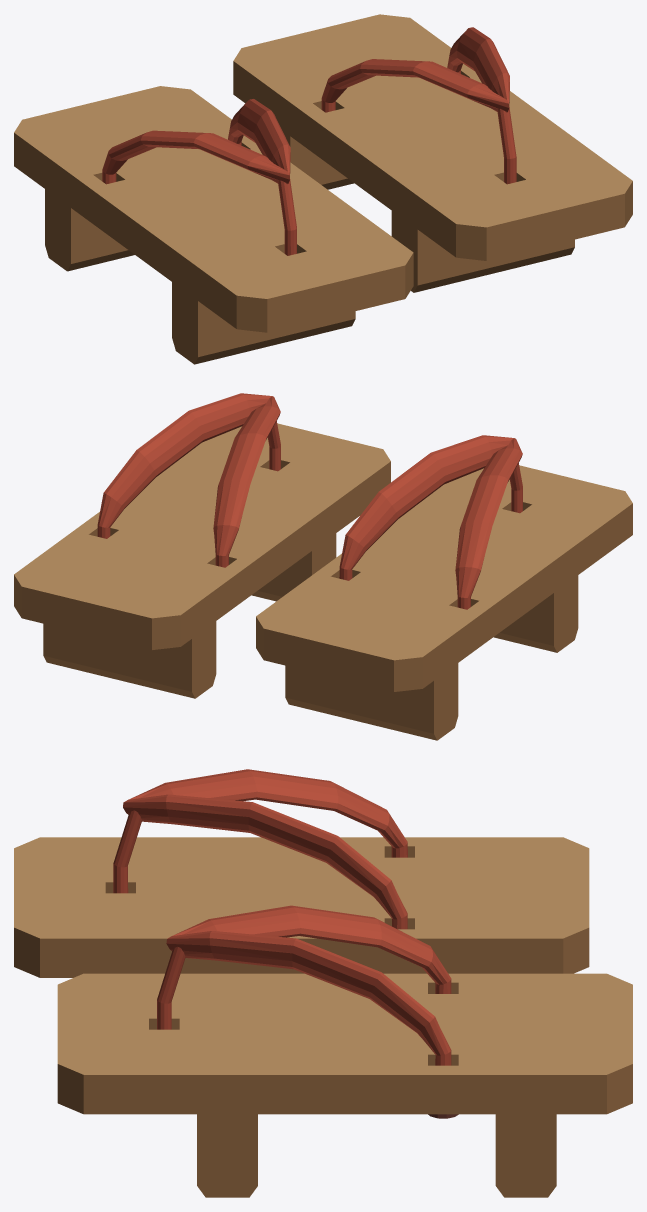
3 views of the same model, one above another, from view 1: azimuth 30°, elevation 25°; view 2: azimuth 150°, elevation 25°; view 3: azimuth 270°, elevation 25° (orthographic). The views are drawn at different scales.
Parts seen in each view (by area): view 1: Left_WholeThreeThroughHoleSoleBoard, Right_WholeThreeThroughHoleSoleBoard, Left_WholePaddedVThongAndTwoFlaredRoots, Right_WholePaddedVThongAndTwoFlaredRoots, Left_WholeFrontTransverseTooth, Right_WholeFrontTransverseTooth, Left_WholeRearTransverseTooth, Right_WholeRearTransverseTooth, Left_WholeForwardToePostAndFlaredRoot, Right_WholeForwardToePostAndFlaredRoot; view 2: Left_WholeThreeThroughHoleSoleBoard, Right_WholeThreeThroughHoleSoleBoard, Left_WholePaddedVThongAndTwoFlaredRoots, Right_WholePaddedVThongAndTwoFlaredRoots, Left_WholeRearTransverseTooth, Right_WholeRearTransverseTooth, Left_WholeFrontTransverseTooth, Right_WholeFrontTransverseTooth, Left_WholeForwardToePostAndFlaredRoot, Right_WholeForwardToePostAndFlaredRoot; view 3: Right_WholeThreeThroughHoleSoleBoard, Left_WholeThreeThroughHoleSoleBoard, Right_WholePaddedVThongAndTwoFlaredRoots, Left_WholePaddedVThongAndTwoFlaredRoots, Right_WholeRearTransverseTooth, Right_WholeFrontTransverseTooth, Left_WholeForwardToePostAndFlaredRoot, Right_WholeForwardToePostAndFlaredRoot.
Part boxes in pixels (<box>): Left_WholeThreeThroughHoleSoleBoard: <box>14,86,413,332</box>; Right_WholeThreeThroughHoleSoleBoard: <box>233,14,632,260</box>; Left_WholePaddedVThongAndTwoFlaredRoots: <box>102,99,290,184</box>; Right_WholePaddedVThongAndTwoFlaredRoots: <box>321,27,509,112</box>; Left_WholeFrontTransverseTooth: <box>172,282,355,364</box>; Right_WholeFrontTransverseTooth: <box>391,211,574,292</box>; Left_WholeRearTransverseTooth: <box>45,189,134,271</box>; Right_WholeRearTransverseTooth: <box>282,130,353,189</box>; Left_WholeForwardToePostAndFlaredRoot: <box>278,179,296,255</box>; Right_WholeForwardToePostAndFlaredRoot: <box>497,107,516,184</box>; Left_WholeThreeThroughHoleSoleBoard: <box>256,465,632,691</box>; Right_WholeThreeThroughHoleSoleBoard: <box>14,423,390,649</box>; Left_WholePaddedVThongAndTwoFlaredRoots: <box>339,435,522,609</box>; Right_WholePaddedVThongAndTwoFlaredRoots: <box>97,393,280,567</box>; Left_WholeRearTransverseTooth: <box>285,663,458,740</box>; Right_WholeRearTransverseTooth: <box>43,621,216,698</box>; Left_WholeFrontTransverseTooth: <box>493,575,578,652</box>; Right_WholeFrontTransverseTooth: <box>251,533,336,601</box>; Left_WholeForwardToePostAndFlaredRoot: <box>509,463,522,513</box>; Right_WholeForwardToePostAndFlaredRoot: <box>267,421,280,471</box>; Right_WholeThreeThroughHoleSoleBoard: <box>57,973,632,1114</box>; Left_WholeThreeThroughHoleSoleBoard: <box>14,837,589,977</box>; Right_WholePaddedVThongAndTwoFlaredRoots: <box>166,905,458,1118</box>; Left_WholePaddedVThongAndTwoFlaredRoots: <box>123,769,407,929</box>; Right_WholeRearTransverseTooth: <box>495,1114,556,1197</box>; Right_WholeFrontTransverseTooth: <box>197,1114,257,1197</box>; Left_WholeForwardToePostAndFlaredRoot: <box>113,810,141,893</box>; Right_WholeForwardToePostAndFlaredRoot: <box>157,946,185,1029</box>.
Bounding box in the file's own units: 0.258 × 0.118 × 0.284.
